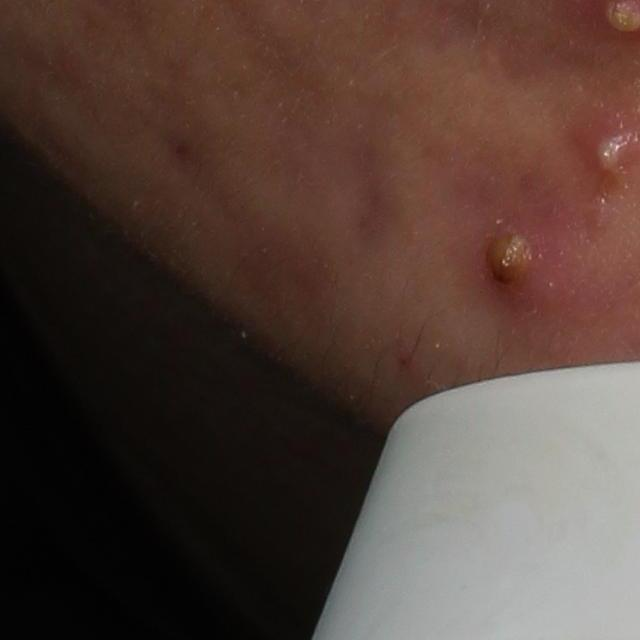pustule: (468, 211, 559, 300)
